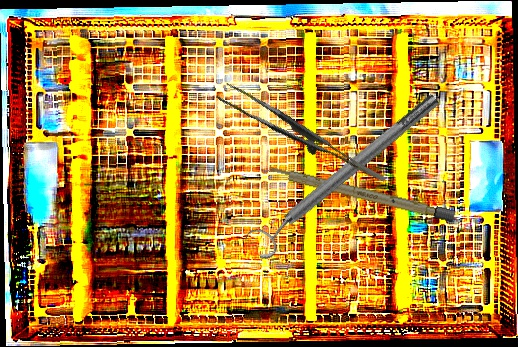Fixation Ring: (241, 85, 449, 264)
Scalpel Handle: (262, 163, 457, 223)
Tissue Forceps: (215, 66, 387, 209)
